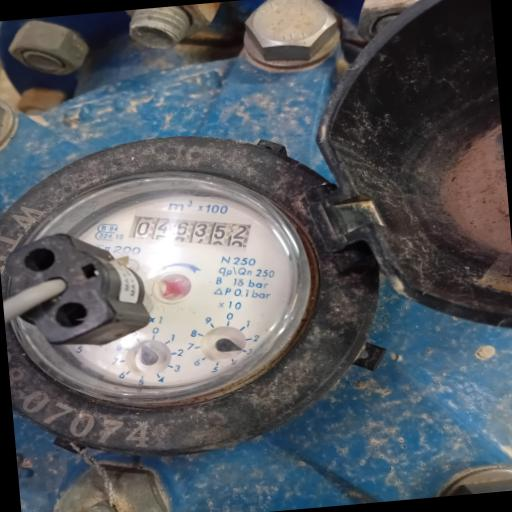0: (136, 220, 152, 238)
2: (232, 223, 250, 242)
3: (192, 220, 212, 240)
4: (156, 217, 172, 237)
5: (212, 222, 230, 242)
6: (175, 220, 192, 238)
medida: (126, 215, 251, 247)
